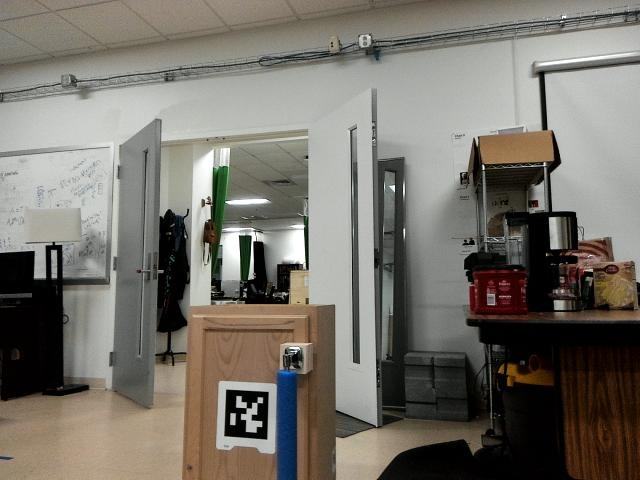noodle_handle: (269, 367, 307, 480)
